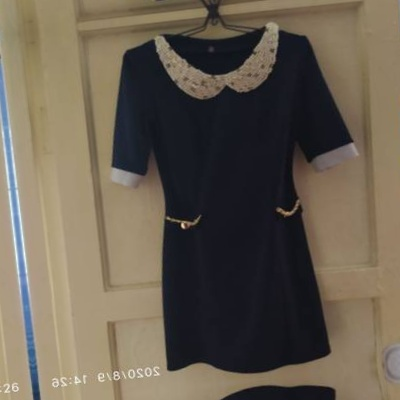Dress: (74, 11, 391, 391), (116, 370, 400, 400), (31, 0, 347, 12)
